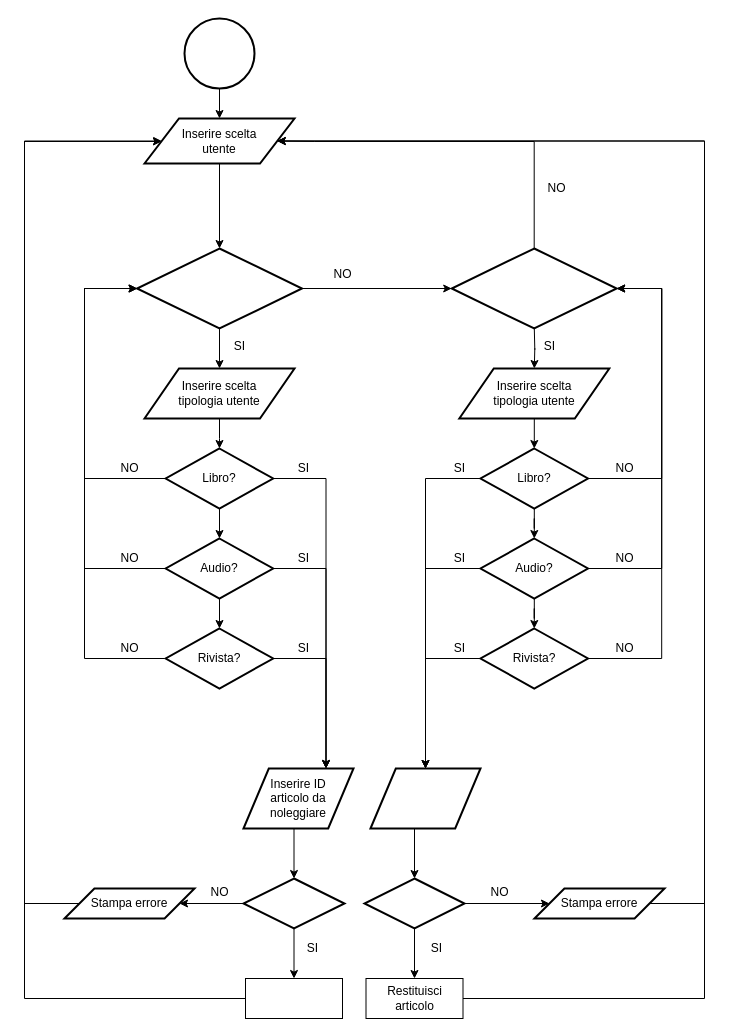
Image size: 730x1036. Some labels were removed from this diagram. The shapes that lost their labels are listed below. From the top down, each one's box as (x1, y1, x2, y2) in pixels, then its label:
(183, 17, 255, 89): start
(136, 247, 302, 329): Noleggiare articolo?
(450, 247, 617, 329): Restituire articolo?
(369, 767, 481, 829): Inserire ID articolo da restituire
(242, 877, 345, 929): Noleggiabile?
(363, 877, 465, 929): Restituibile?
(244, 978, 342, 1018): Noleggia articolo
